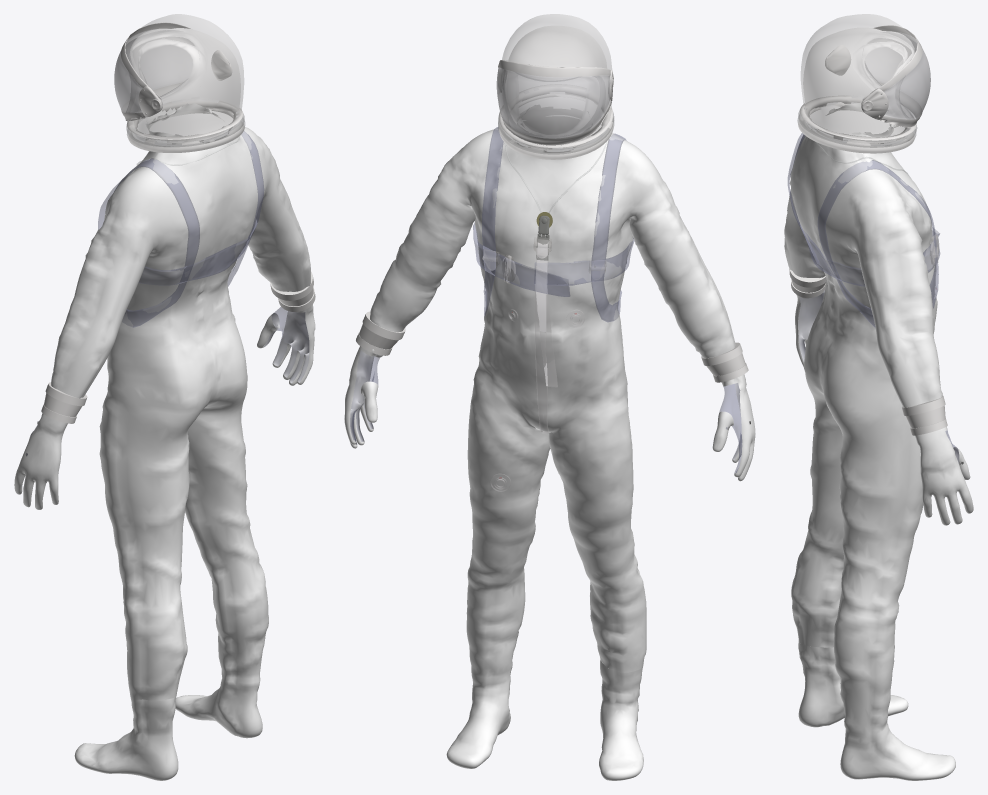
Rendered from mercury.glb.
3 views of the same model, side by side, from view 1: azimuth 30°, elevation 25°; view 2: azimuth 150°, elevation 25°; view 3: azimuth 270°, elevation 25° (orthographic).
Visible parts, largest first — view 1: Mercury Spacesuit; view 2: Mercury Spacesuit; view 3: Mercury Spacesuit.
Boxes of the visible parts, <box> form: Mercury Spacesuit: <box>14,14,315,780</box>; Mercury Spacesuit: <box>344,14,755,780</box>; Mercury Spacesuit: <box>784,14,973,780</box>.
Bounding box in the file's own units: 0.9948 × 2 × 0.4718.
6 materials, 6 textured.
